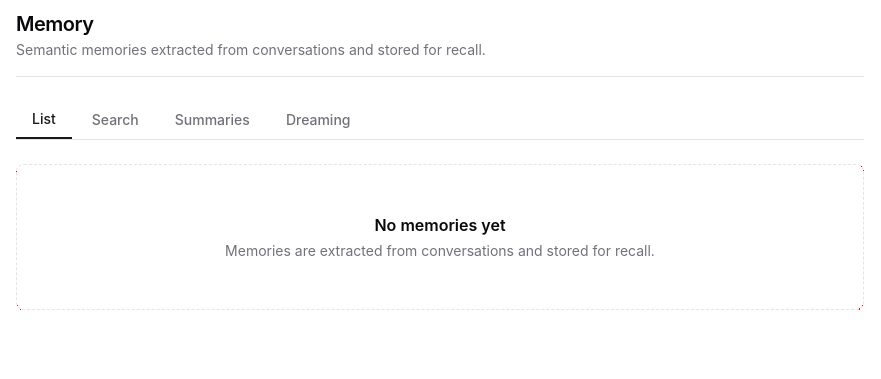
Test: MemoryView › shows an error block when summaries fetch fails
Click the button "summaries" at (212, 120), box [159,101,266,139]
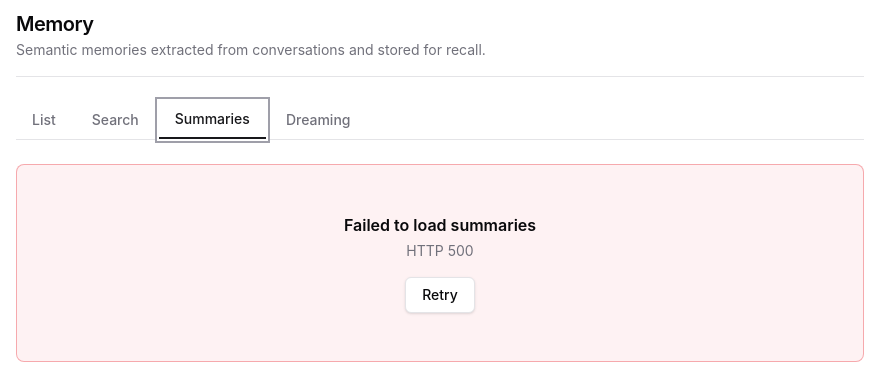
Check: the text "HTTP 500" is shown, box [406,241,474,261]
